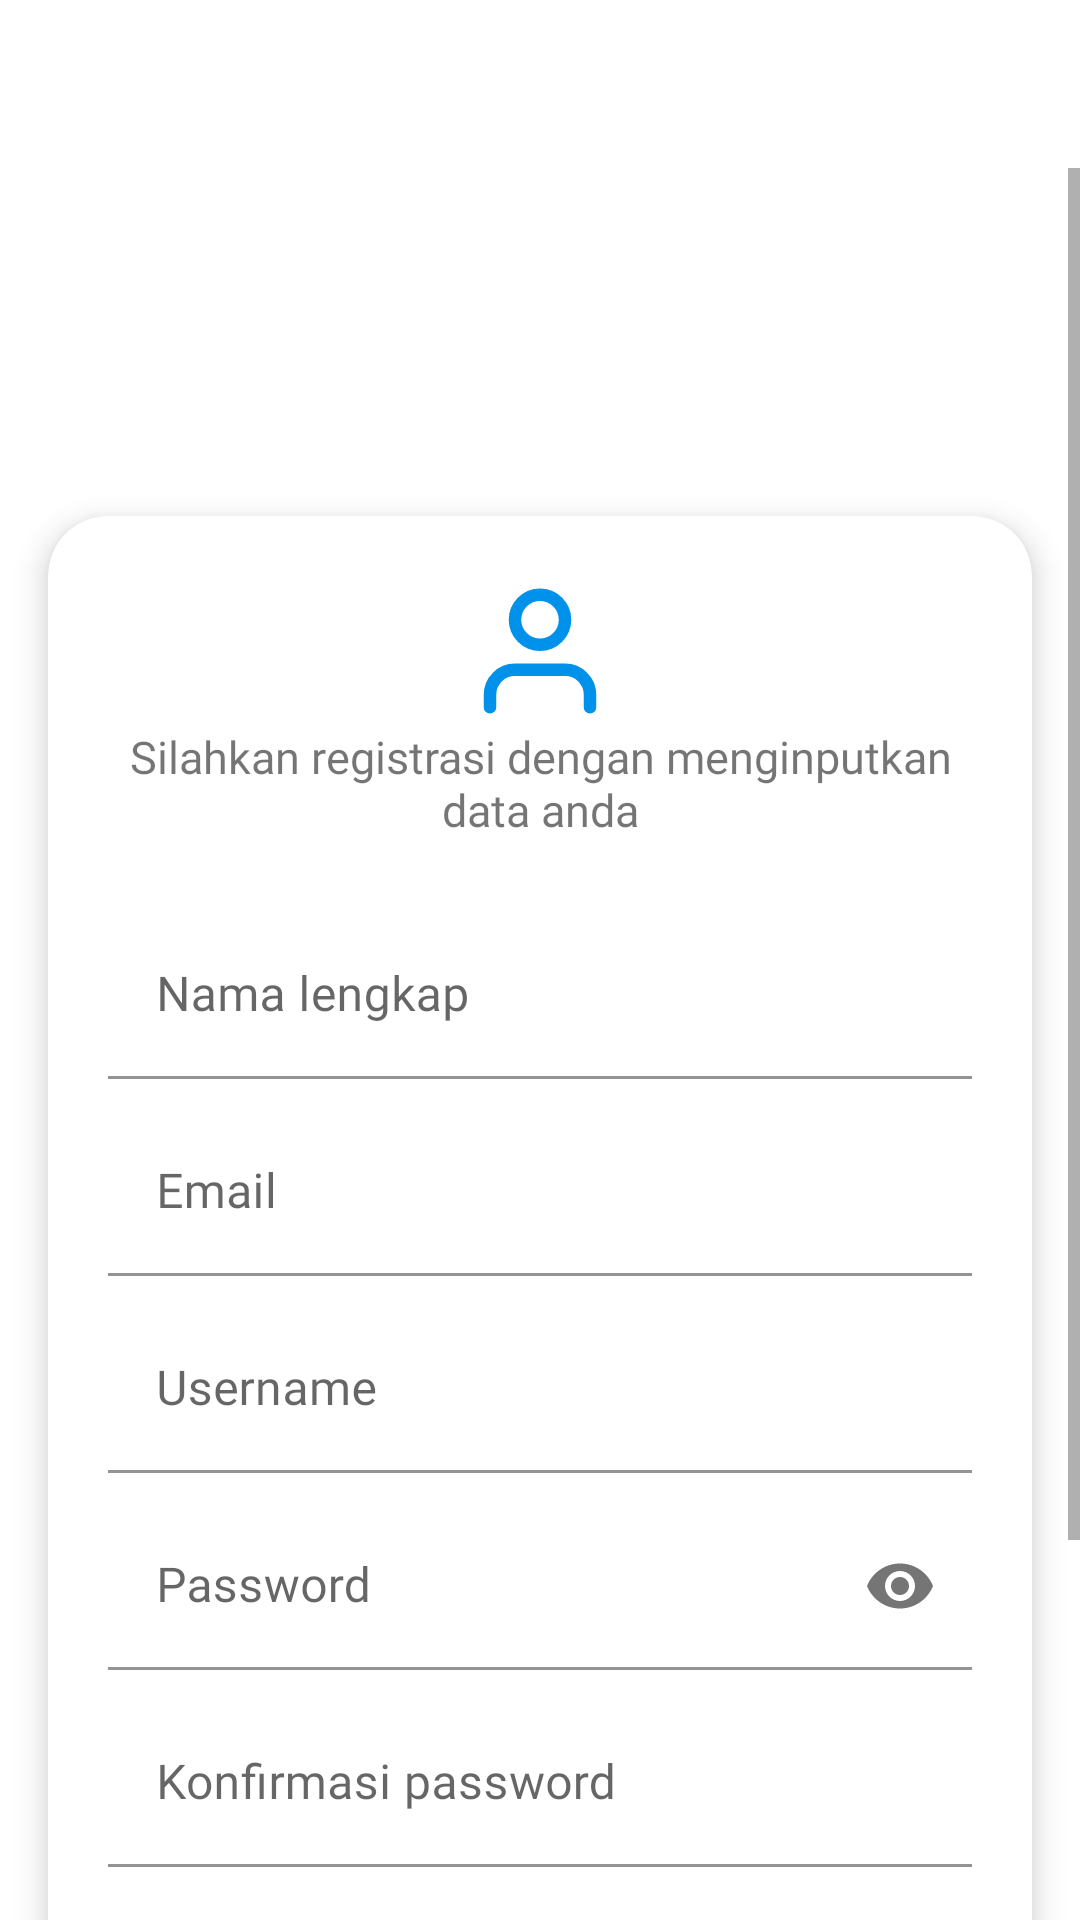

Locate icon controls on the screen. Image size 1080 x 1920, boxes as (x1, y1, x2, y2).
user: (483, 588, 597, 714)
